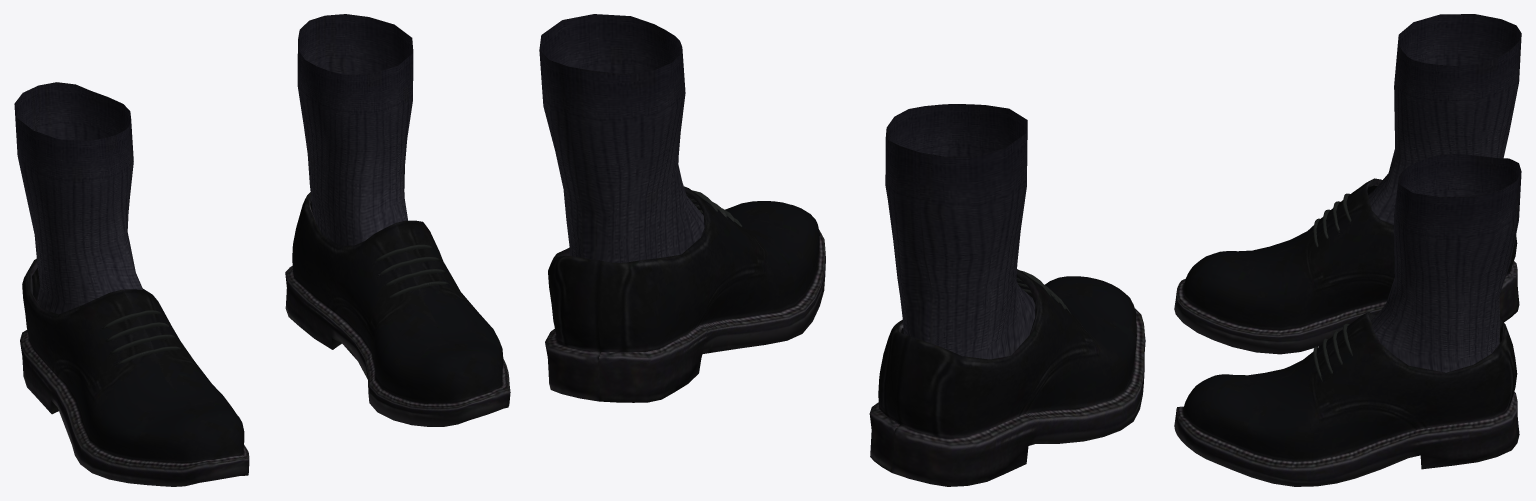
The model's file is shoes_black_boots.gltf.
3 views of the same model, side by side, from view 1: azimuth 30°, elevation 25°; view 2: azimuth 150°, elevation 25°; view 3: azimuth 270°, elevation 25° (orthographic). The views are drawn at different scales.
Visible parts, largest first — view 1: shoes_black_boots; view 2: shoes_black_boots; view 3: shoes_black_boots.
Boxes of the visible parts, x1=… form: shoes_black_boots: x1=14, y1=14, x2=510, y2=486; shoes_black_boots: x1=539, y1=14, x2=1145, y2=486; shoes_black_boots: x1=1174, y1=14, x2=1521, y2=486.
Size of the model in its own units: 0.3458 by 0.2341 by 0.2561.
Materials: 1 (1 with a texture image).
